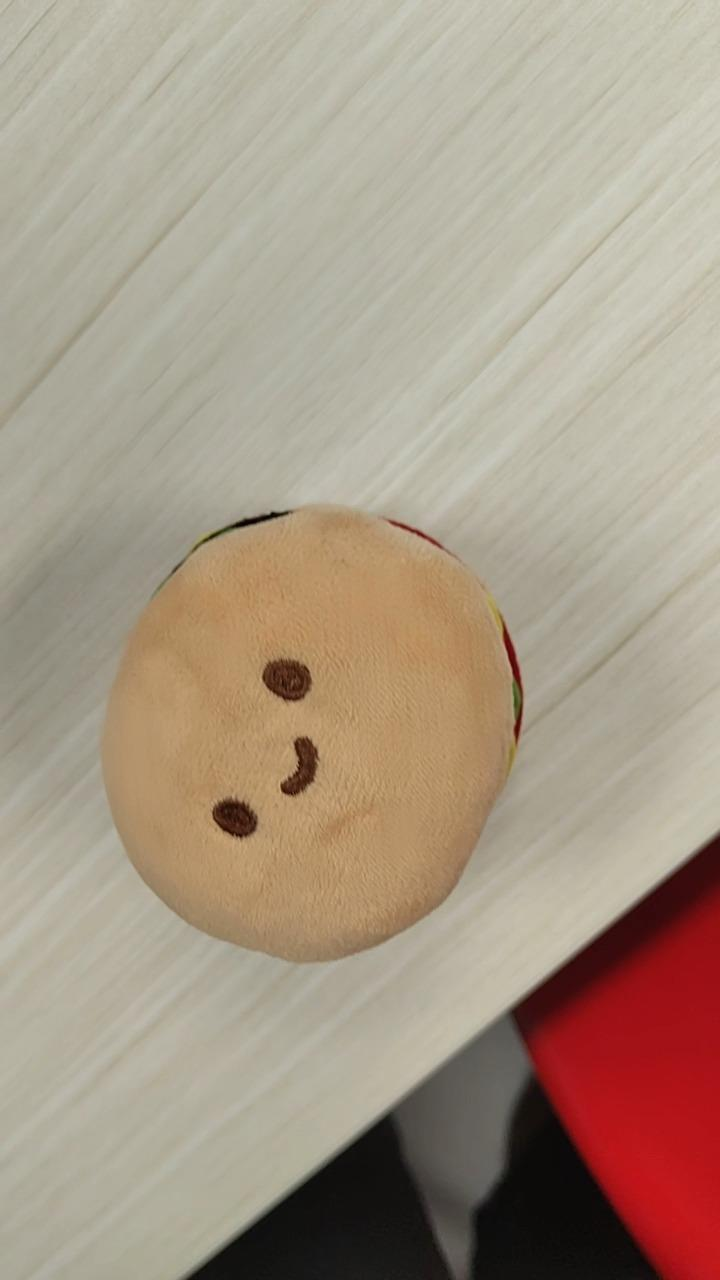hamburger: (98, 501, 525, 964)
